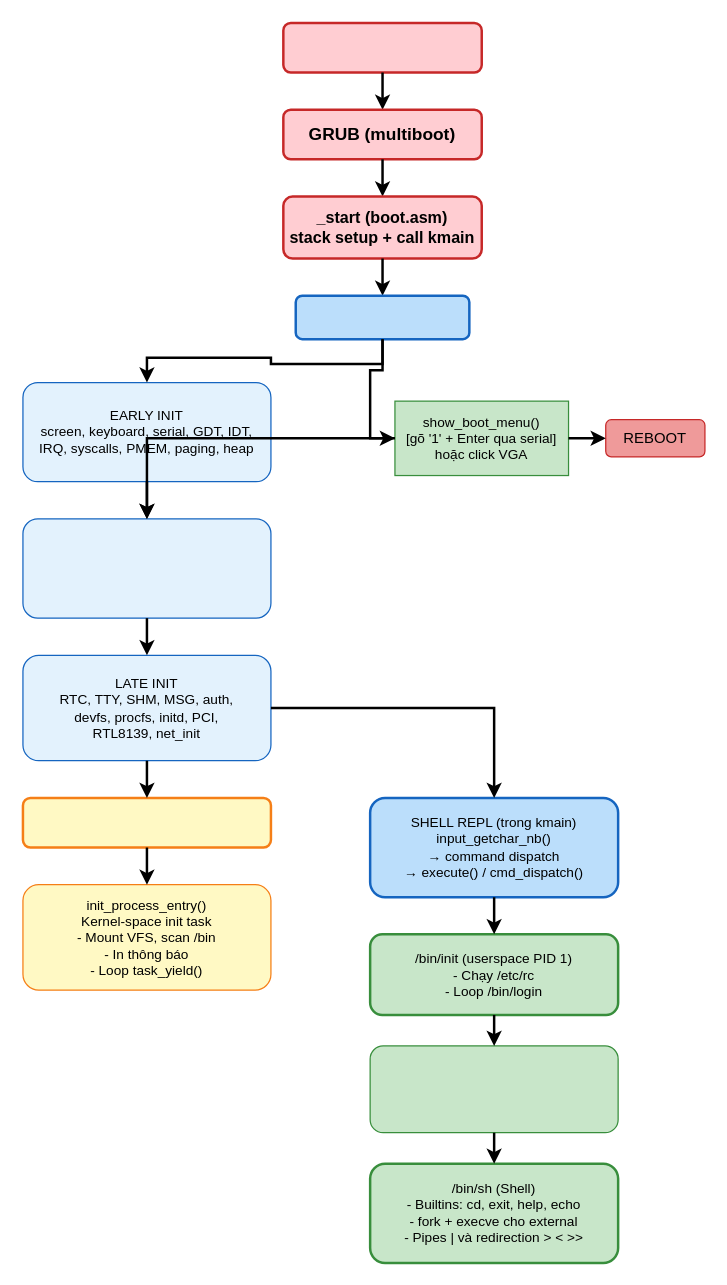
The diagram is 727 pixels wide and 1285 high, and some of its shapes have lost their labels. Here are the shapes that lost their labels. From the top down, the centre of each, then its label:
At [381,47]: "BIOS".
At [382,317]: "kmain()".
At [146,568]: "MID INIT slab, VM, PIT, scheduler, initcalls, ata, partition, FAT32".
At [146,822]: "init_start() → kernel task 'init'".
At [493,1089]: "/bin/login - Username/password - auth_login() syscall - Spawn /bin/sh".
